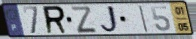5: (150, 5, 173, 33)
7: (21, 5, 40, 36)
I: (138, 5, 150, 34)
J: (99, 4, 121, 34)
R: (42, 5, 70, 36)
Z: (69, 6, 99, 35)
